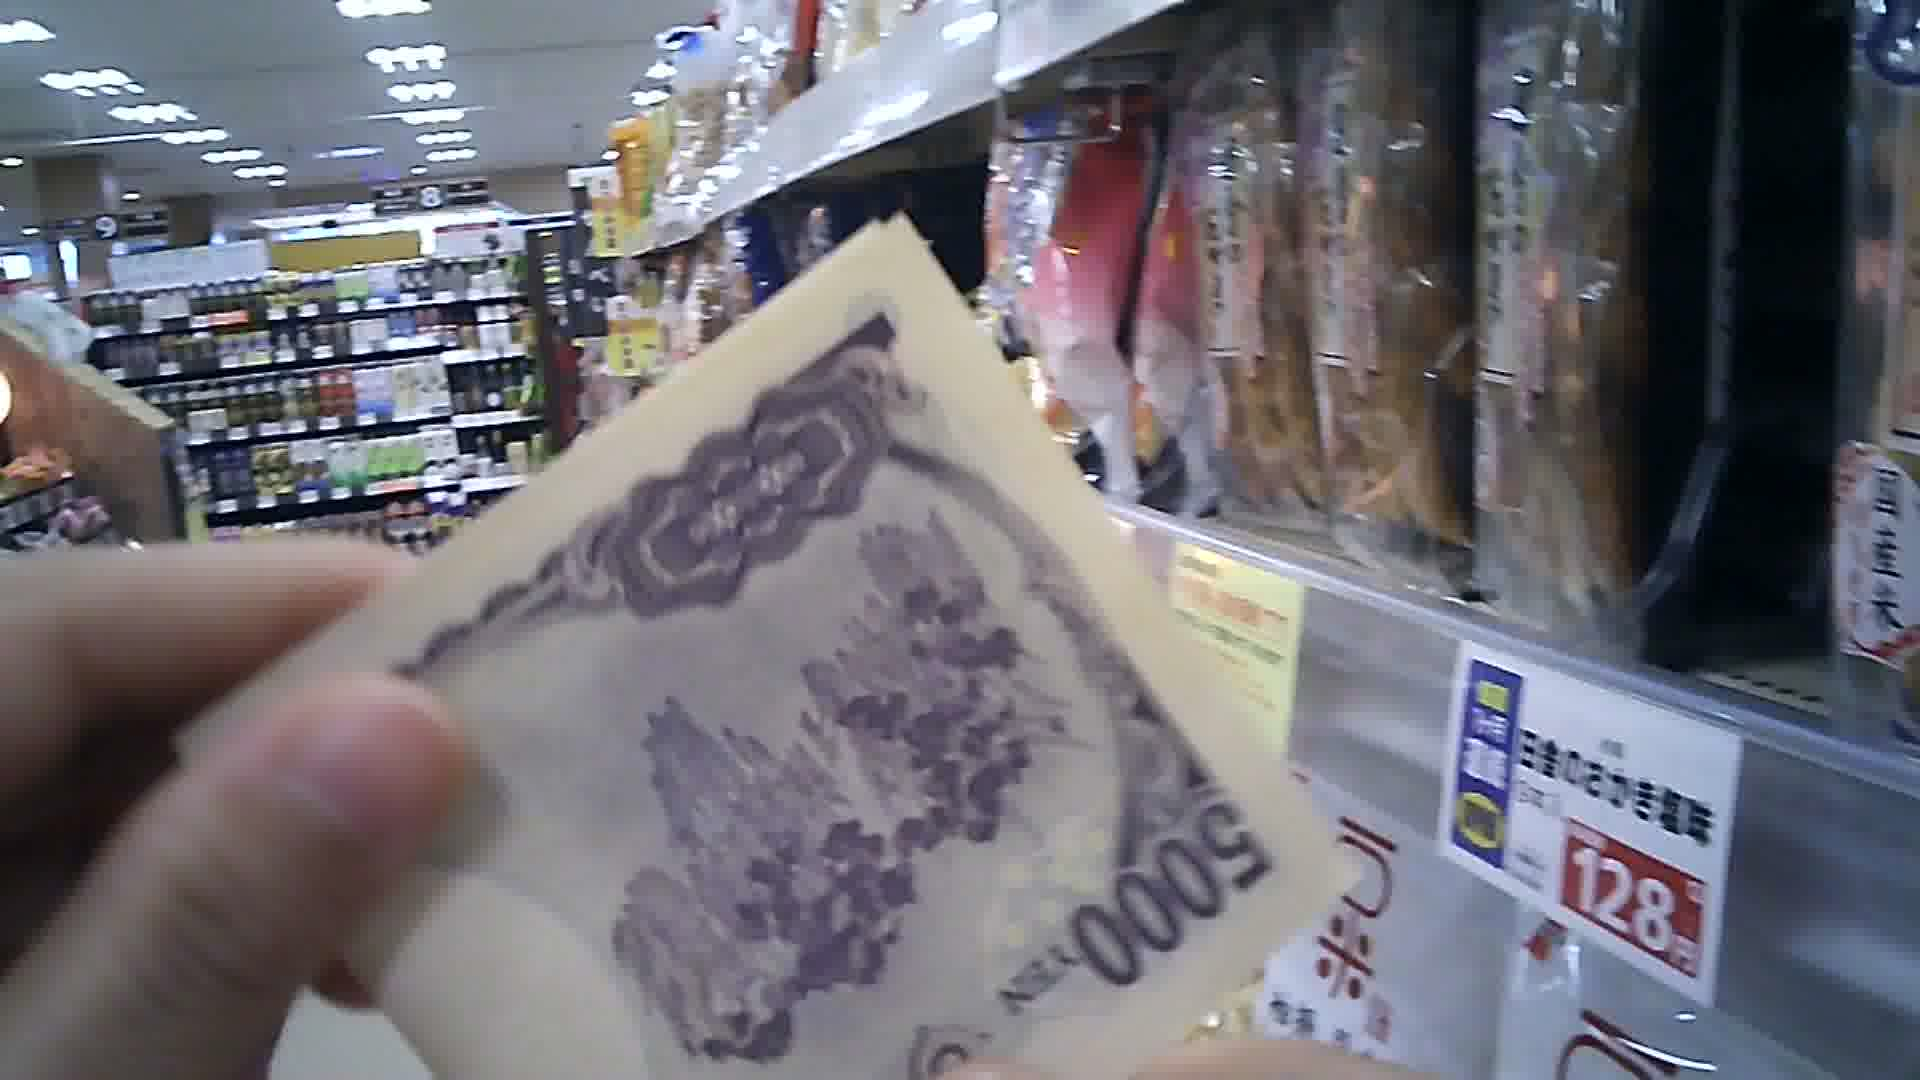5,000 Yen: (196, 225, 1346, 1079)
